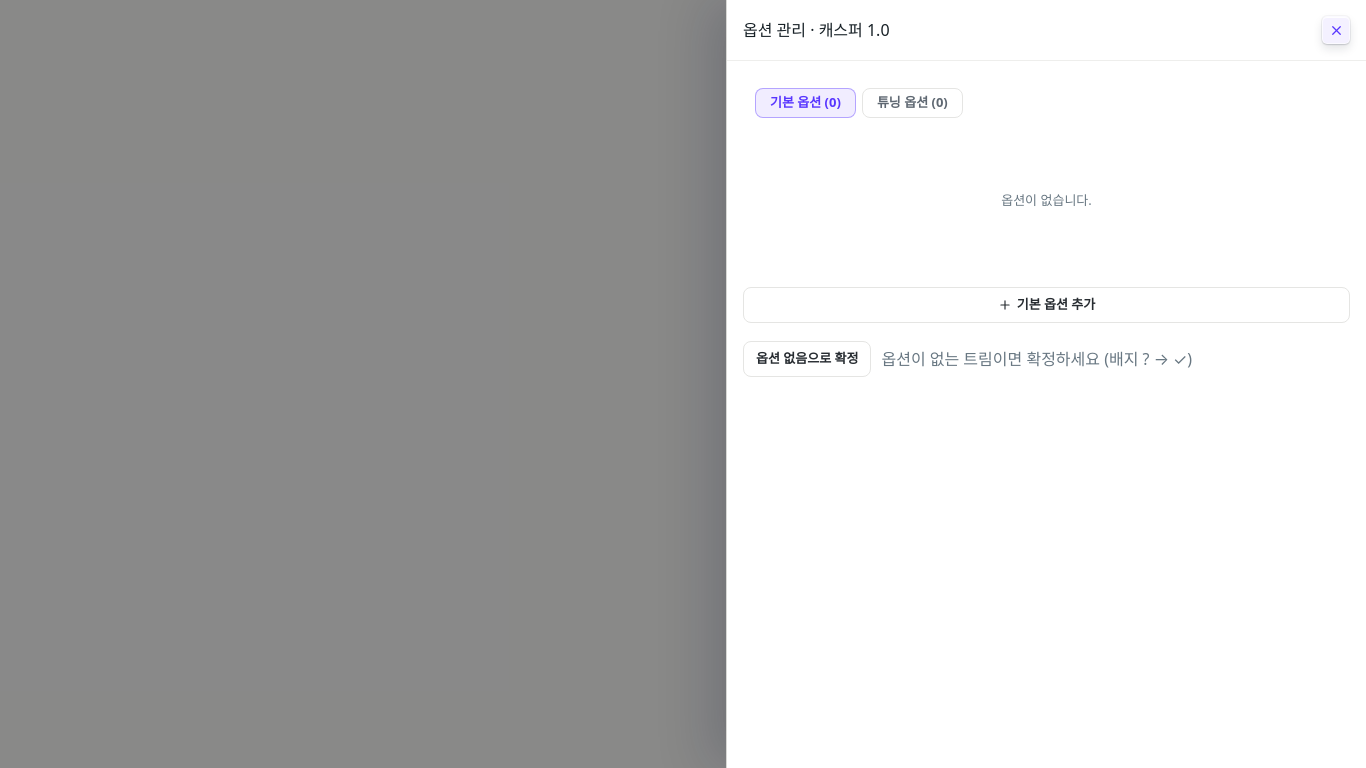
200 즉시 실행(admin): 무옵션 토글 후 로컬 플립되어 라벨이 「확정 해제」로 바뀐다
Click the button "옵션 없음으로 확정".
click(807, 358)  # box [743, 340, 872, 376]
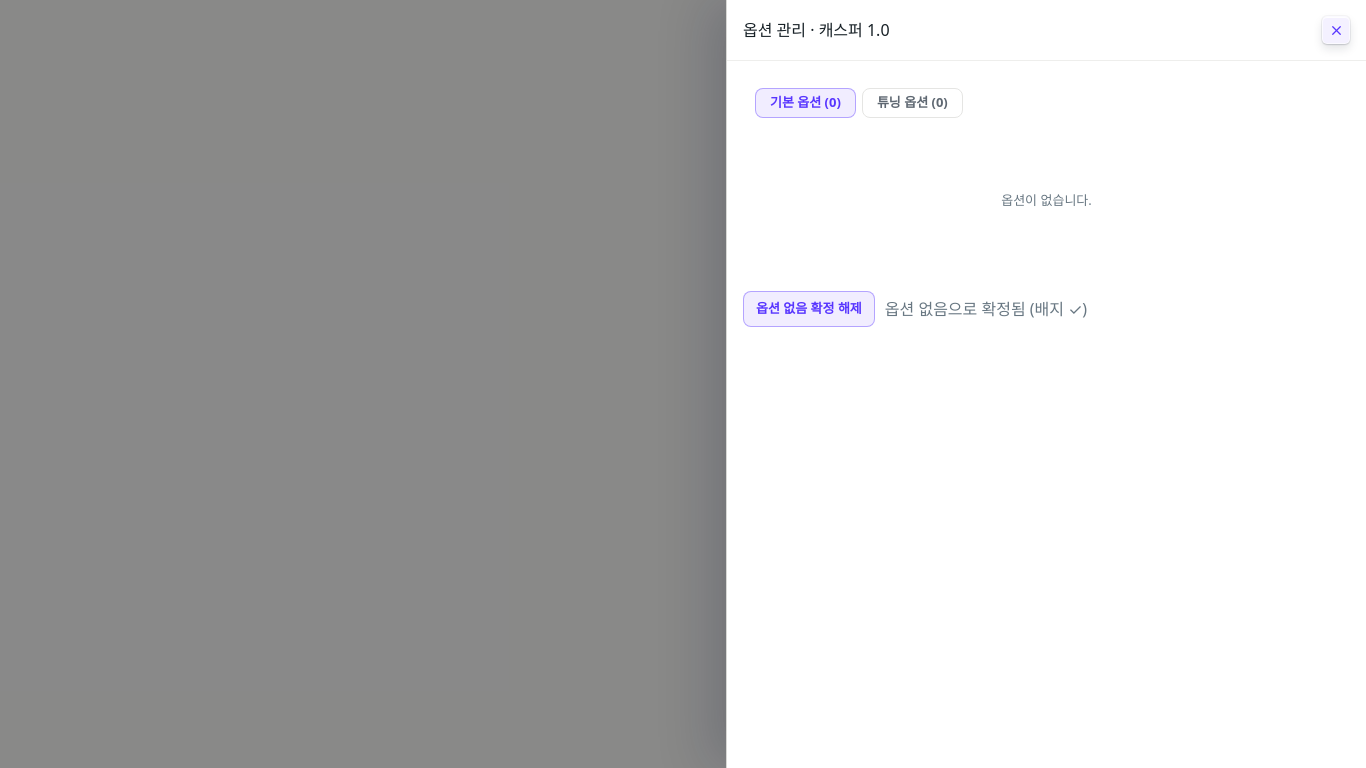
Now the button "옵션 없음 확정 해제" is shown, box [743, 290, 875, 326]
